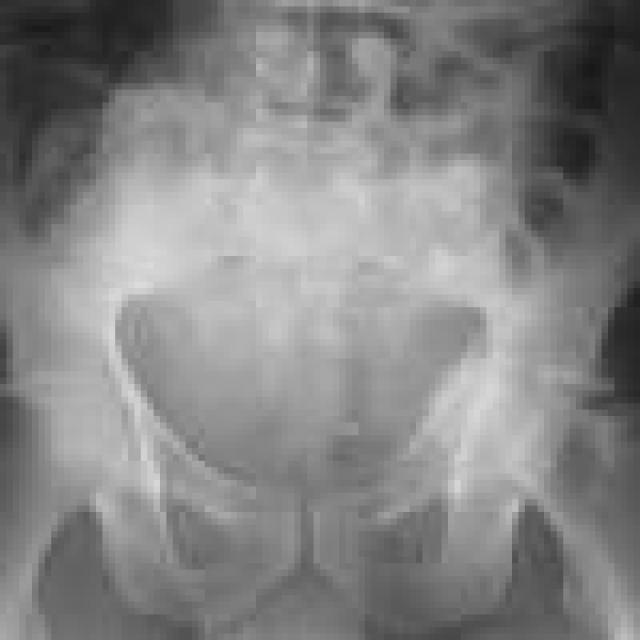Fracture: (97, 233, 504, 518)
